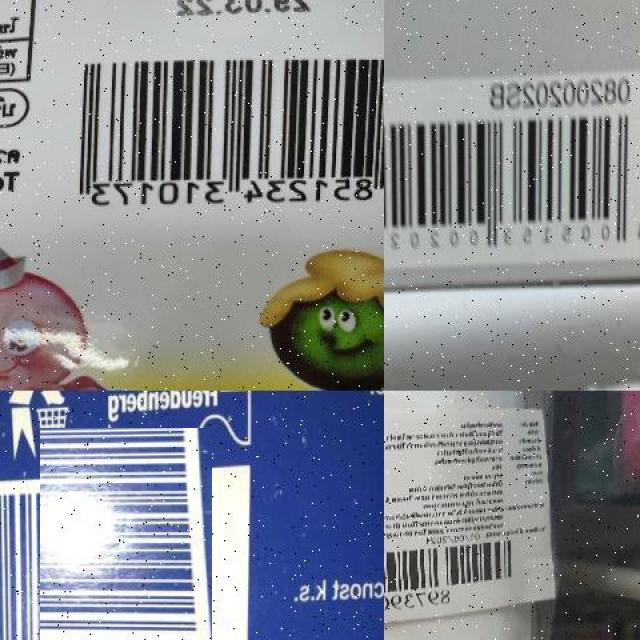Barcode: (63, 44, 384, 215), (384, 70, 640, 270), (20, 448, 233, 640), (384, 532, 527, 619)
